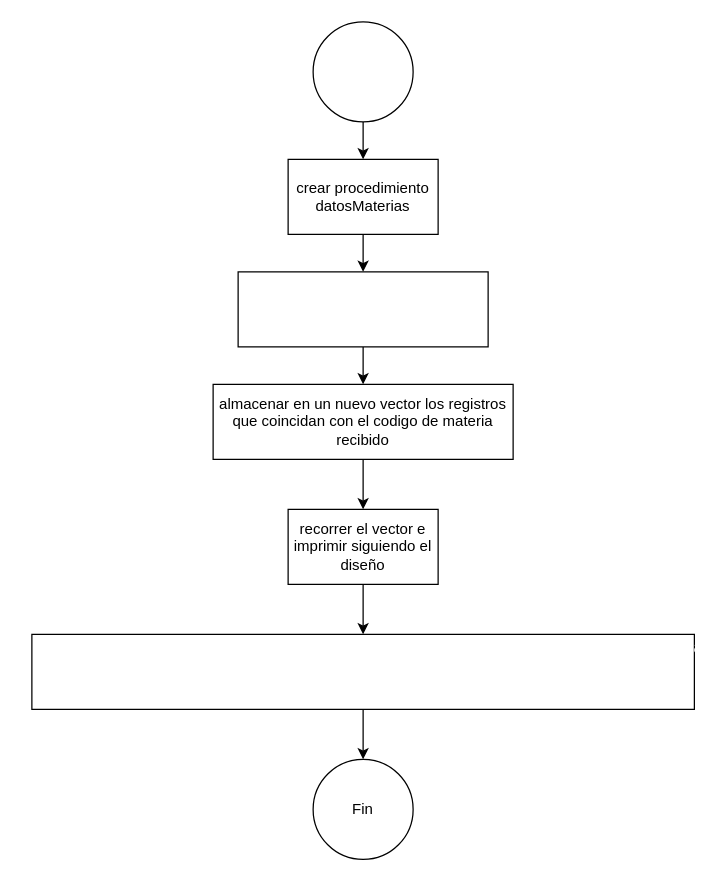
This 725x881 diagram has some shape labels left out. The centre of each missing label's shape, as x and y in pixels:
"Inicio" belongs at point (362, 71).
"recibir - codigo de una materia - vector generado en ej. 4" belongs at point (362, 309).
